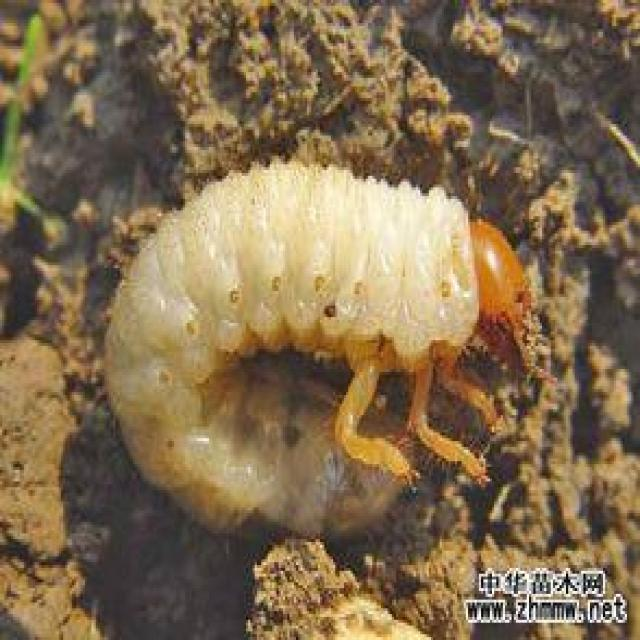Grub-Adult-: (88, 159, 542, 554)
